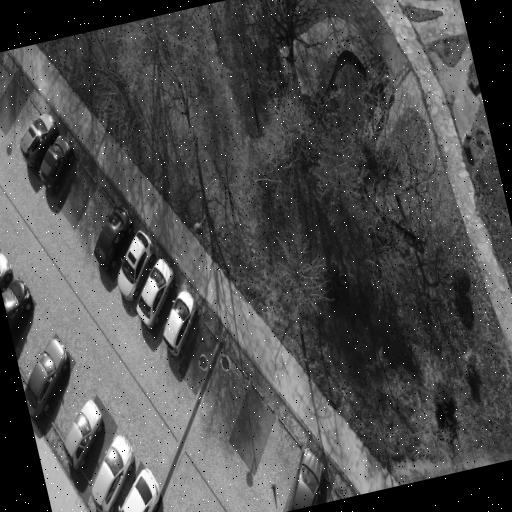person: (25, 338, 69, 418), (92, 435, 135, 511), (137, 259, 175, 328), (64, 400, 102, 468), (118, 231, 154, 301), (94, 207, 133, 269), (289, 448, 327, 510), (164, 291, 197, 355), (20, 114, 59, 167), (40, 136, 74, 191), (2, 279, 33, 332), (121, 469, 160, 511), (0, 253, 13, 290)
